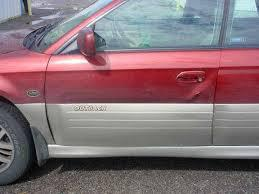doorouter-dent: (123, 48, 215, 145)
